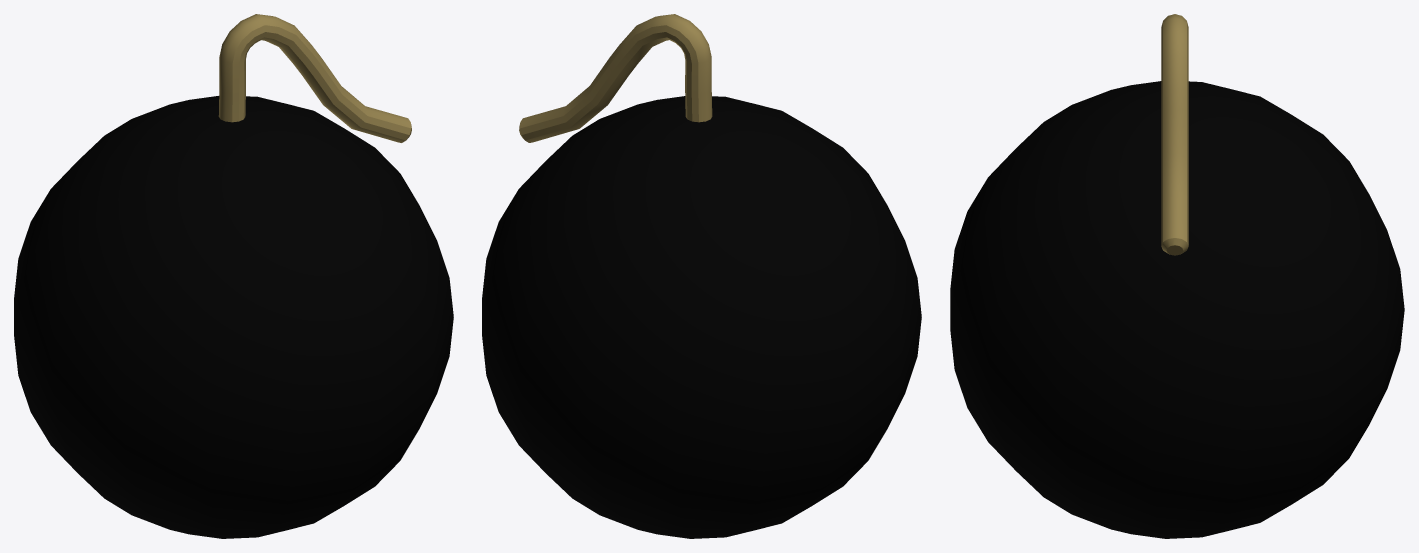
Rendered from Bomb asset 1.fbx.
The picture shows the model from 3 angles, left to right: view 1: azimuth 30°, elevation 25°; view 2: azimuth 150°, elevation 25°; view 3: azimuth 270°, elevation 25°; orthographic projection. The views are drawn at different scales.
Visible parts, largest first — view 1: Sphere.001, Cube; view 2: Sphere.001, Cube; view 3: Sphere.001, Cube.
Boxes of the visible parts, x1,y1,x2,y2 form: Sphere.001: [14, 96, 453, 538]; Cube: [218, 14, 411, 142]; Sphere.001: [482, 96, 921, 538]; Cube: [519, 14, 712, 142]; Sphere.001: [950, 81, 1404, 538]; Cube: [1161, 14, 1188, 255].
Size of the model in its own units: 199 by 247 by 198.
